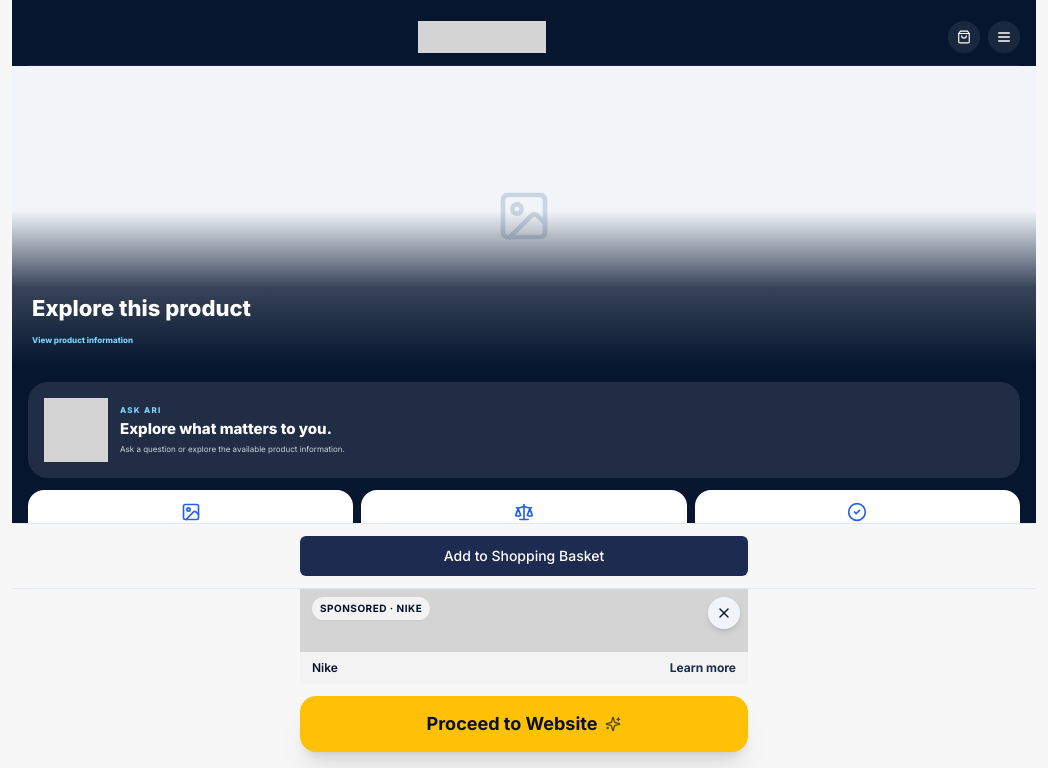
QrScanInteraction sponsored media measurement › dismisses Ari sponsored media even when DISMISSED measurement fails
Expected: the element named "Sponsored content from Nike" is shown, [12,588,1036,684]
What coordinates should you click on to do the following:
click the button named "Dismiss sponsored content"
I would click on:
 (724, 613)
Its box is [708,597,740,629].
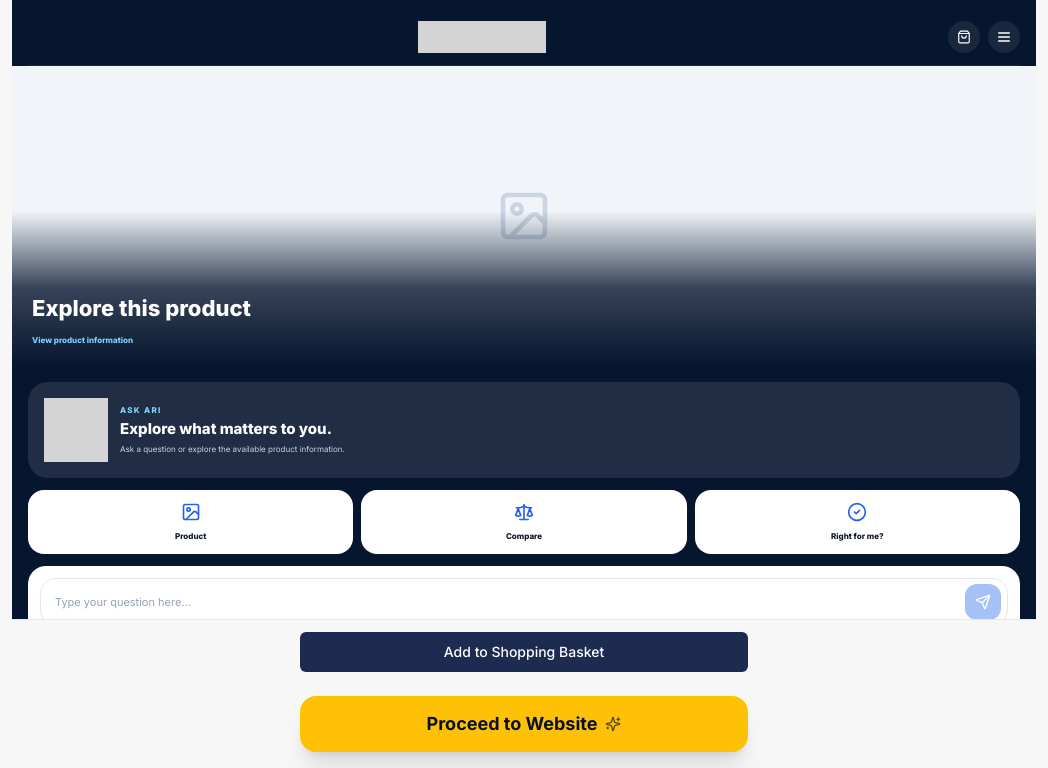
Result: the picture labelled "Sponsored content from Nike" is gone
